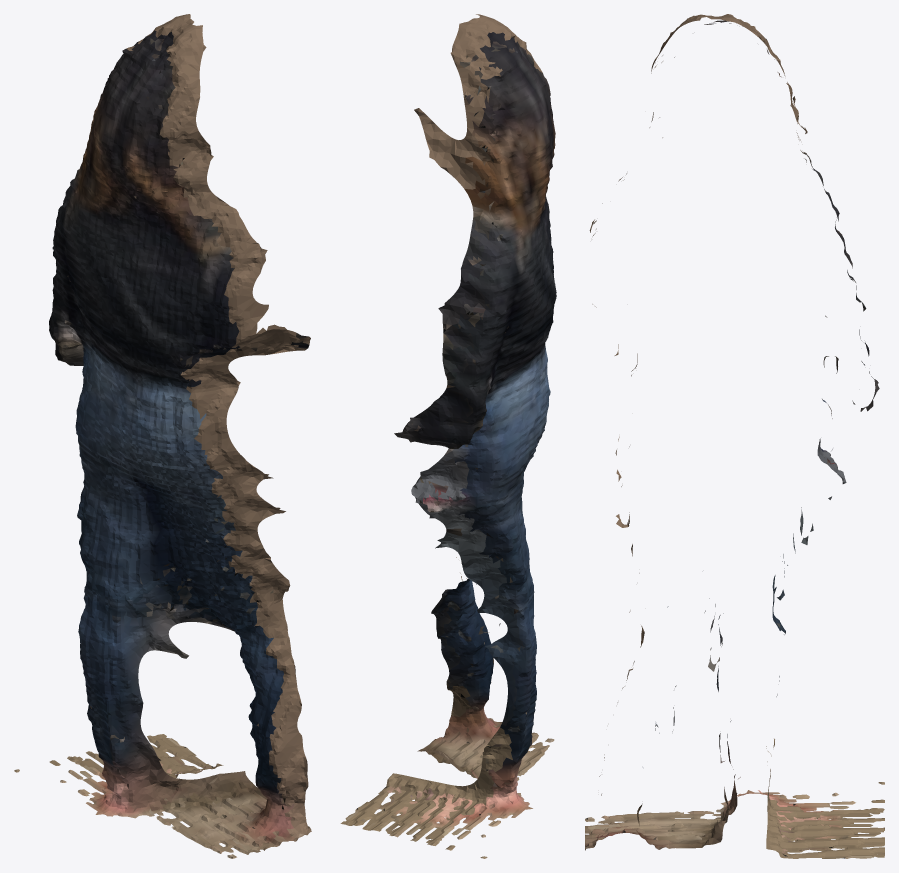
3 views of the same model, side by side, from view 1: azimuth 30°, elevation 25°; view 2: azimuth 150°, elevation 25°; view 3: azimuth 270°, elevation 25° (orthographic). The views are drawn at different scales.
Bounding box in the file's own units: 0.3165 × 1.55 × 0.5204.
Materials: 1 (1 with a texture image).
